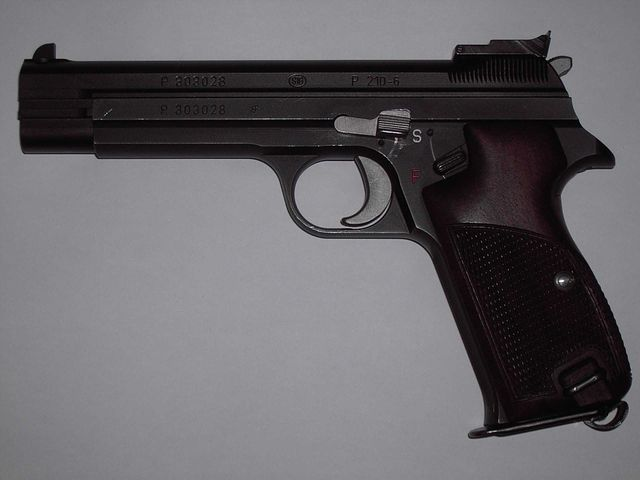gun: (14, 40, 633, 433)
